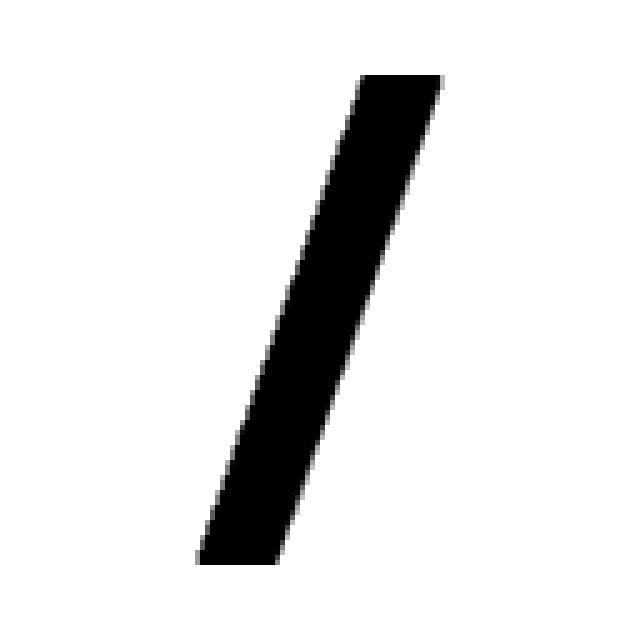I: (195, 75, 445, 570)
